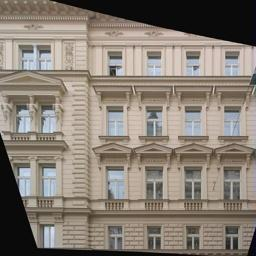building: (84, 7, 249, 256)
